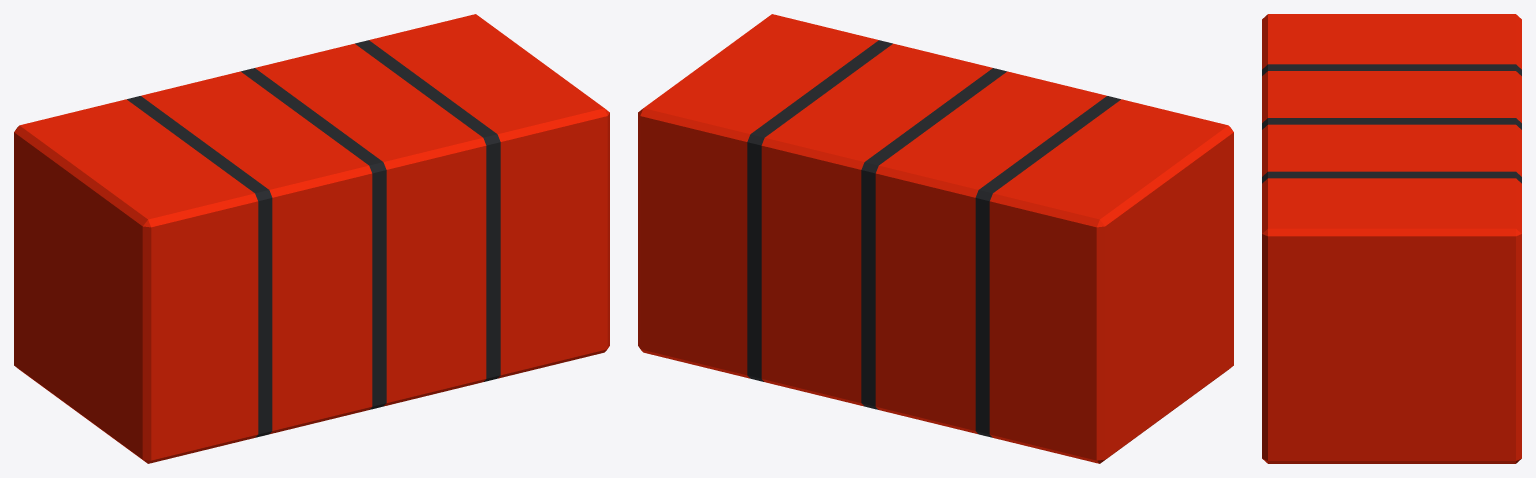
File: Cargo_1.fbx
3 renders of one model, left to right at view 1: azimuth 30°, elevation 25°; view 2: azimuth 150°, elevation 25°; view 3: azimuth 270°, elevation 25°, orthographic. The views are drawn at different scales.
Visible parts, largest first — view 1: Cargo_1; view 2: Cargo_1; view 3: Cargo_1.
Part boxes in pixels (bbox=[...]): Cargo_1: bbox=[14, 14, 609, 463]; Cargo_1: bbox=[638, 14, 1233, 463]; Cargo_1: bbox=[1262, 14, 1521, 463].
Bounding box in the file's own units: 223 × 112 × 112.
